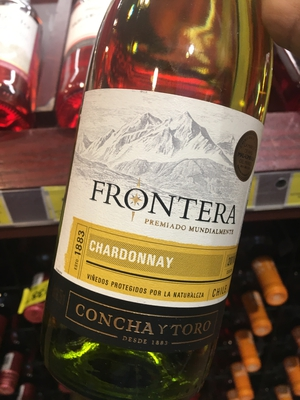frontera chardonnay: (59, 5, 260, 381)
